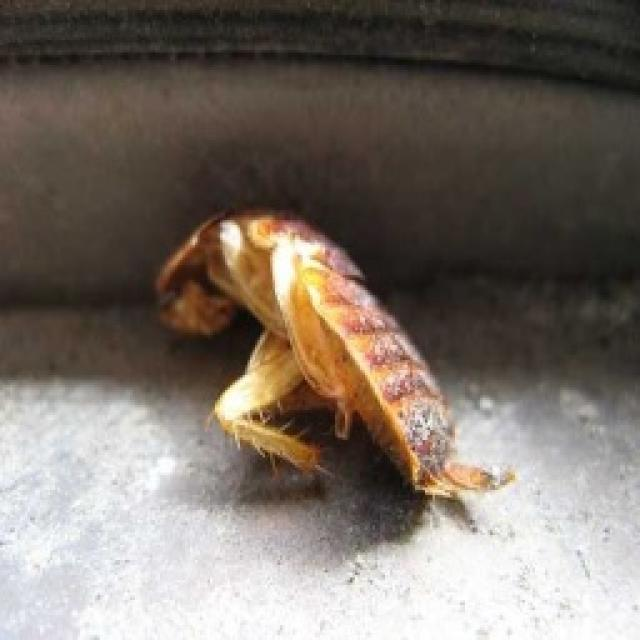cockroach: (148, 200, 522, 511)
